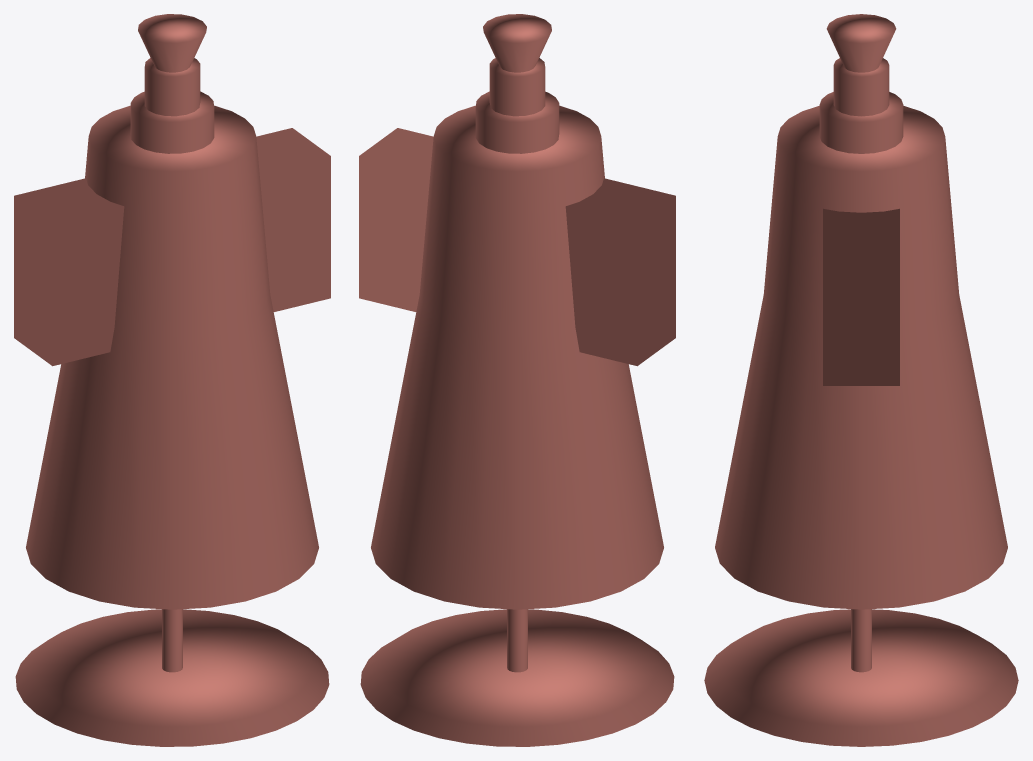
The model's file is placeholder-garment.glb.
The picture shows the model from 3 angles, left to right: view 1: azimuth 30°, elevation 25°; view 2: azimuth 150°, elevation 25°; view 3: azimuth 270°, elevation 25°; orthographic projection.
Visible parts, largest first — view 1: GarmentMannequin; view 2: GarmentMannequin; view 3: GarmentMannequin.
Boxes of the visible parts, left/top/right/bottom form: GarmentMannequin: left=14, top=14, right=330, bottom=746; GarmentMannequin: left=359, top=14, right=675, bottom=746; GarmentMannequin: left=704, top=14, right=1018, bottom=746.
Bounding box in the file's own units: 0.92 × 2.06 × 0.9.
